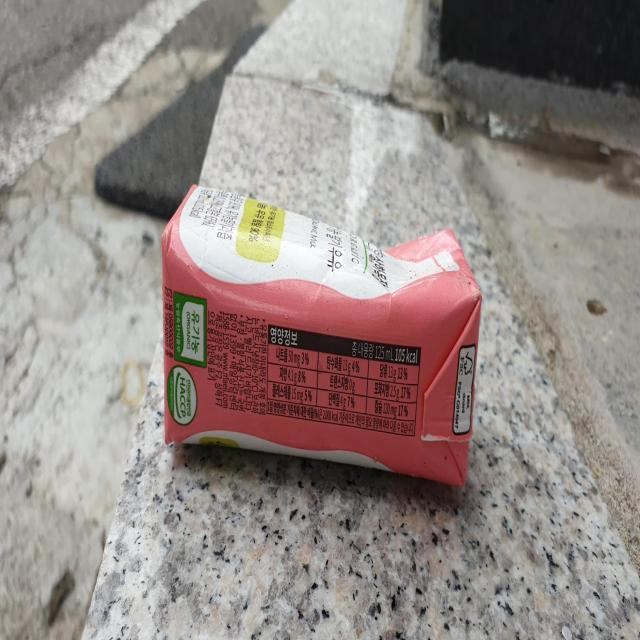paperpack: (162, 184, 482, 484)
